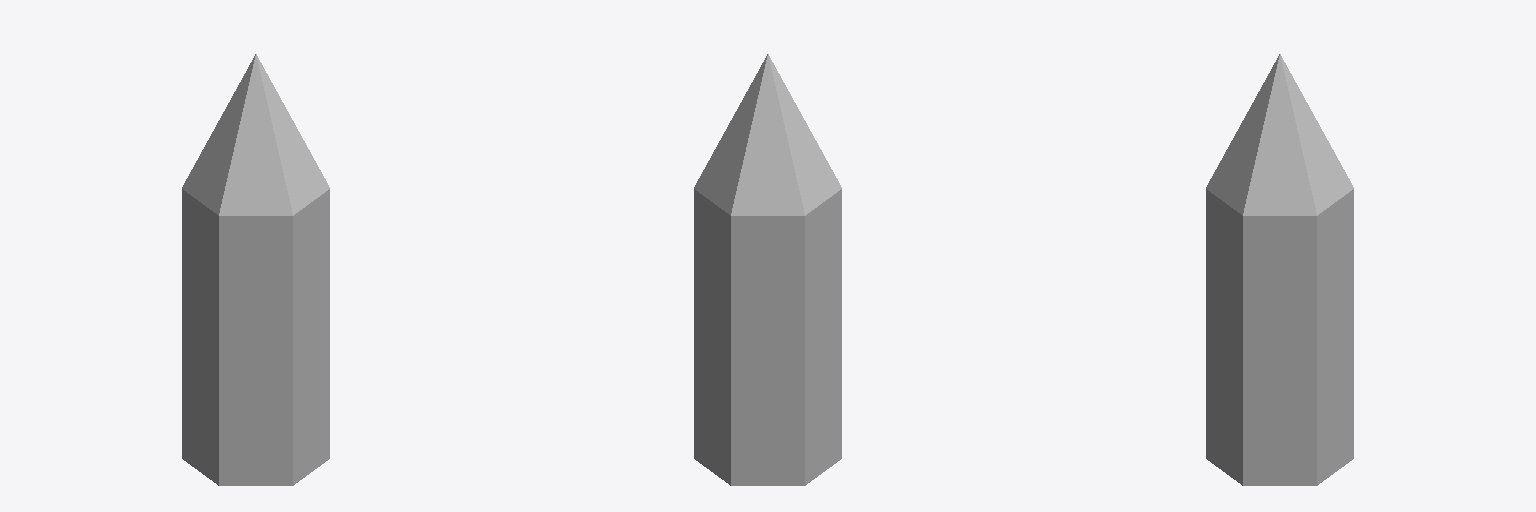
The model's file is bullet.obj.
3 renders of one model, left to right at view 1: azimuth 30°, elevation 25°; view 2: azimuth 150°, elevation 25°; view 3: azimuth 270°, elevation 25°, orthographic.
Parts seen in each view (by area): view 1: Cylinder; view 2: Cylinder; view 3: Cylinder.
Boxes of the visible parts, x1,y1,x2,y2 form: Cylinder: [182, 54, 329, 485]; Cylinder: [694, 54, 841, 485]; Cylinder: [1206, 54, 1353, 485].
Bounding box in the file's own units: 0.065 × 0.225 × 0.075.